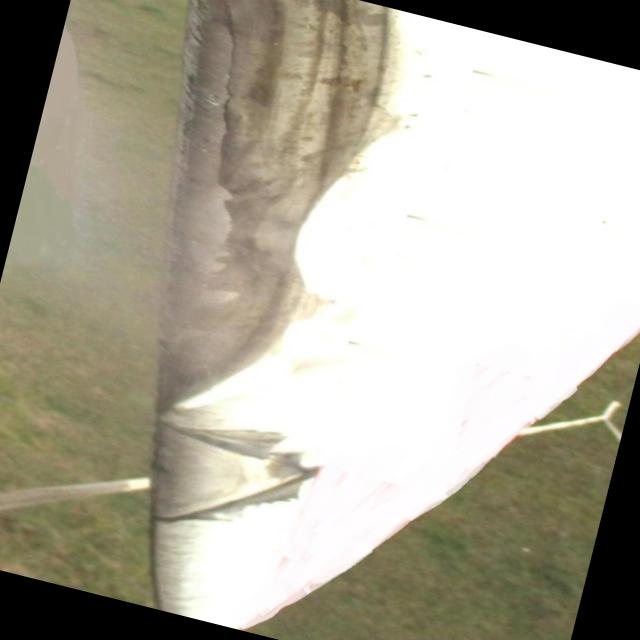surface_peeling: (90, 0, 391, 425), (134, 414, 313, 550)
